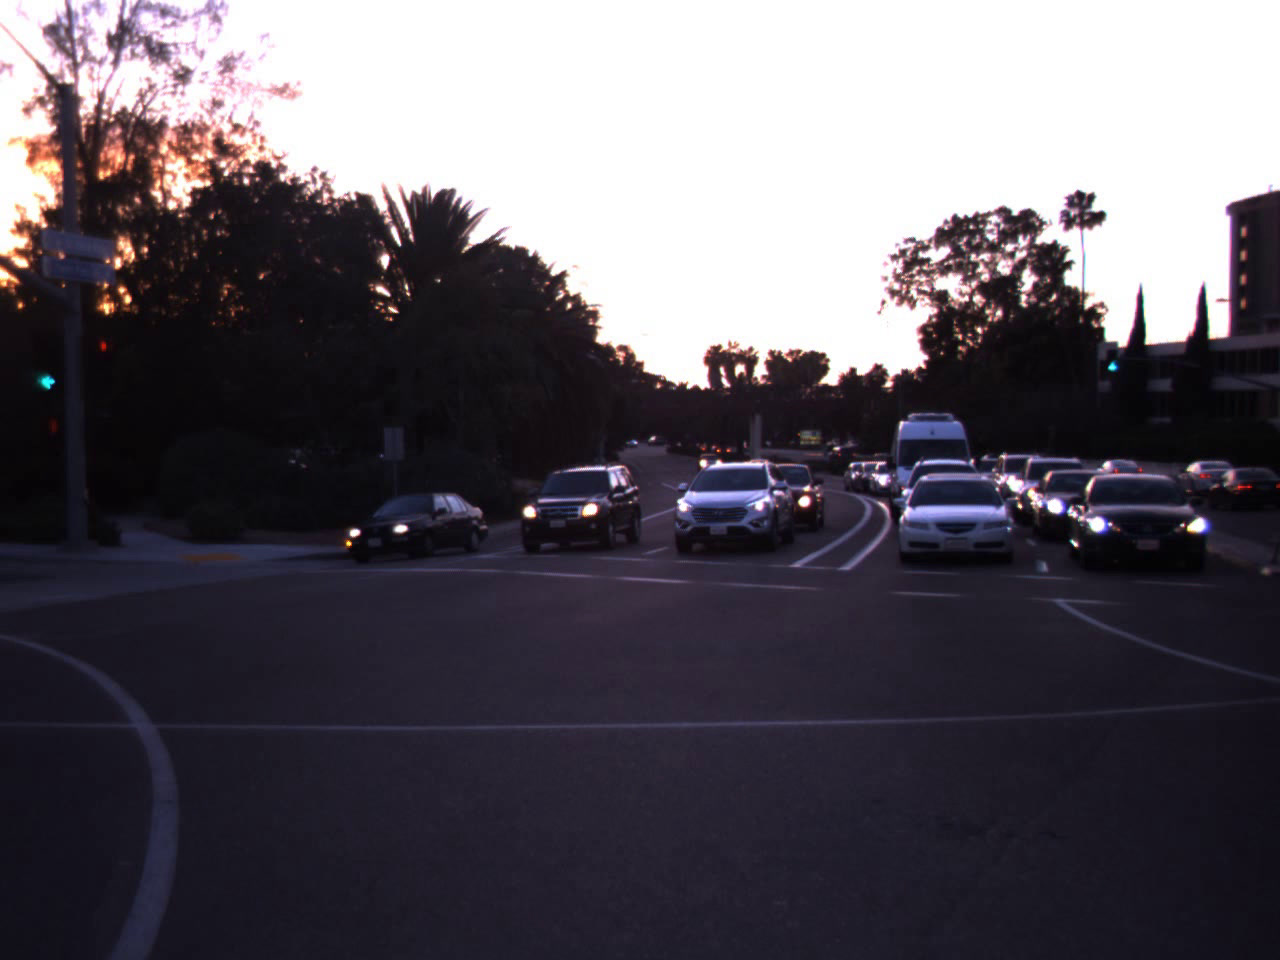go: (1103, 343, 1121, 373)
